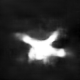plane: (13, 25, 70, 66)
